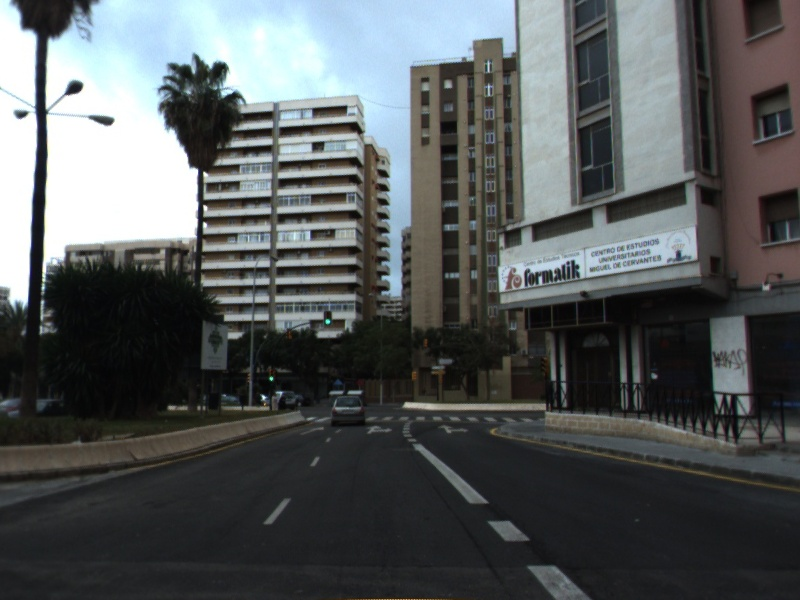STRAIGHT: (297, 423, 326, 437)
STRAIGHT_RIGHT: (435, 422, 472, 435), (363, 423, 395, 436)
